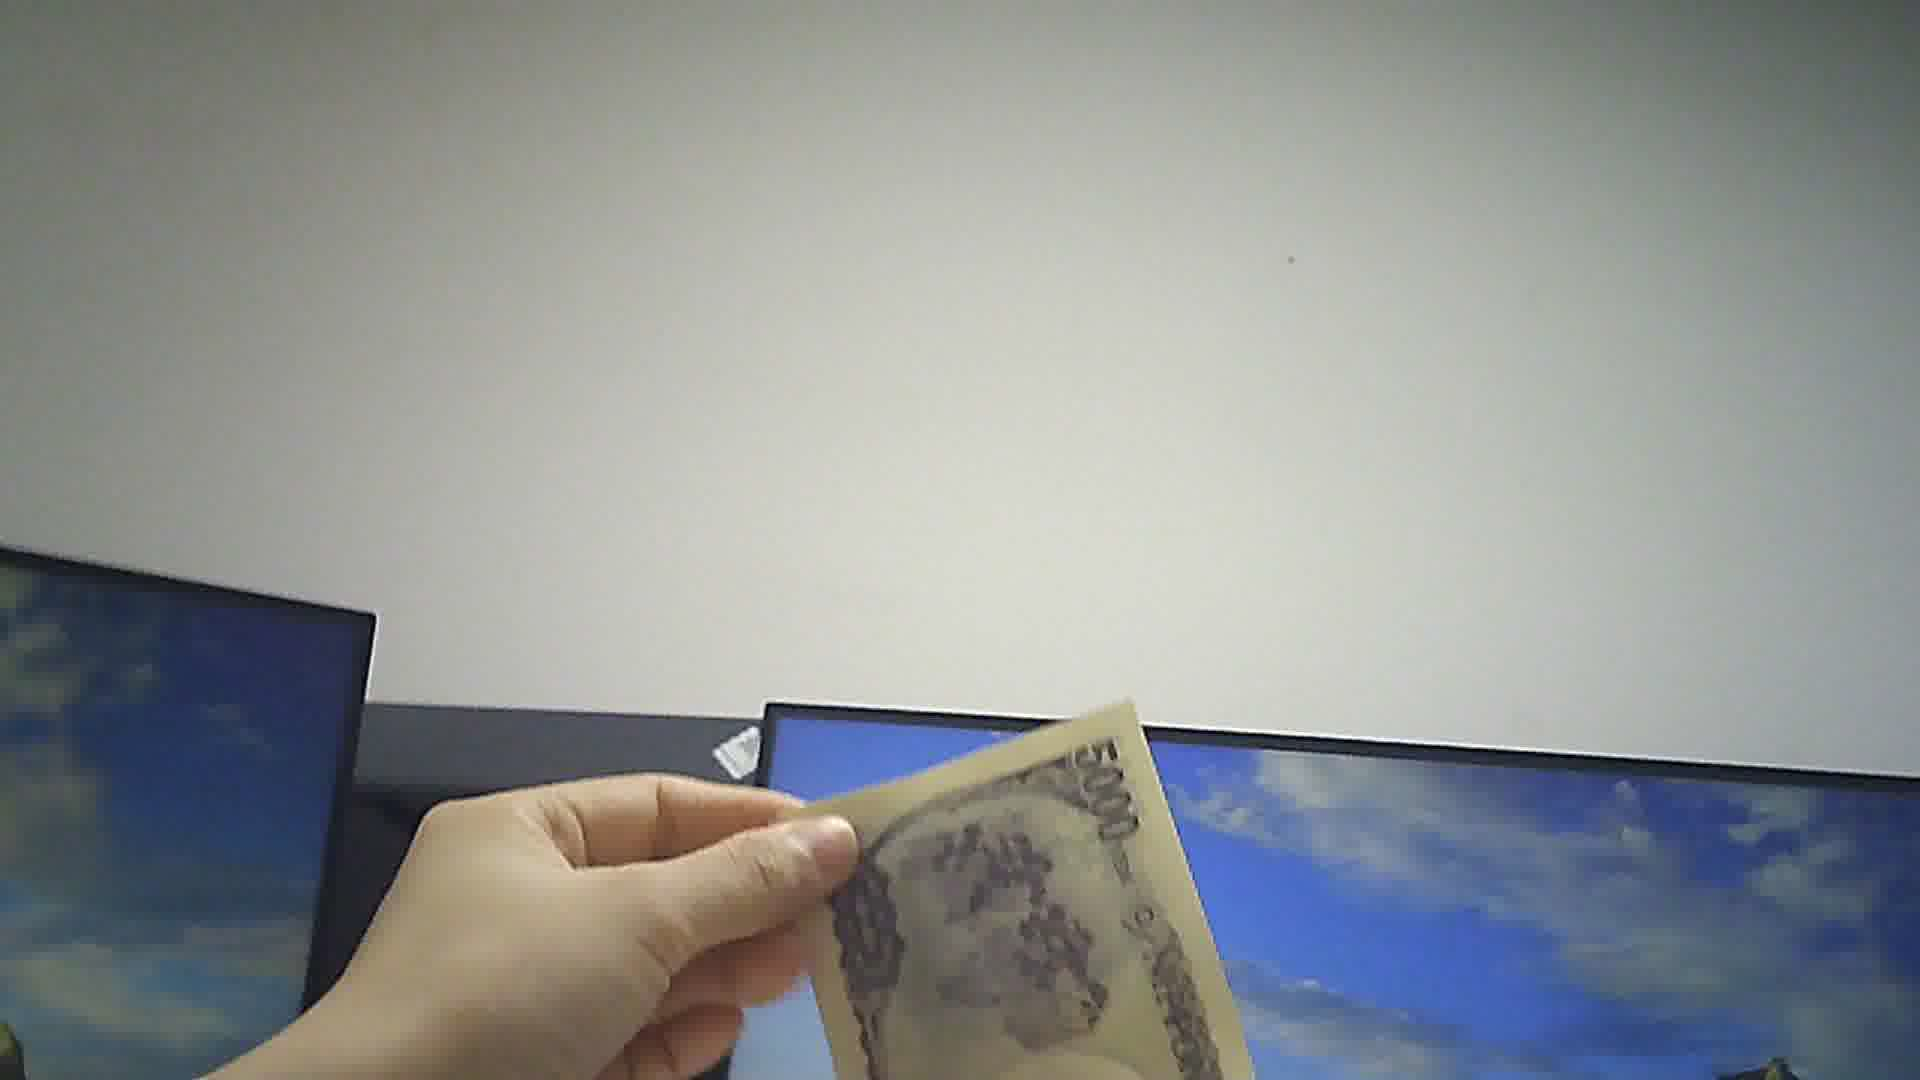5,000 Yen: (774, 699, 1267, 1079)
